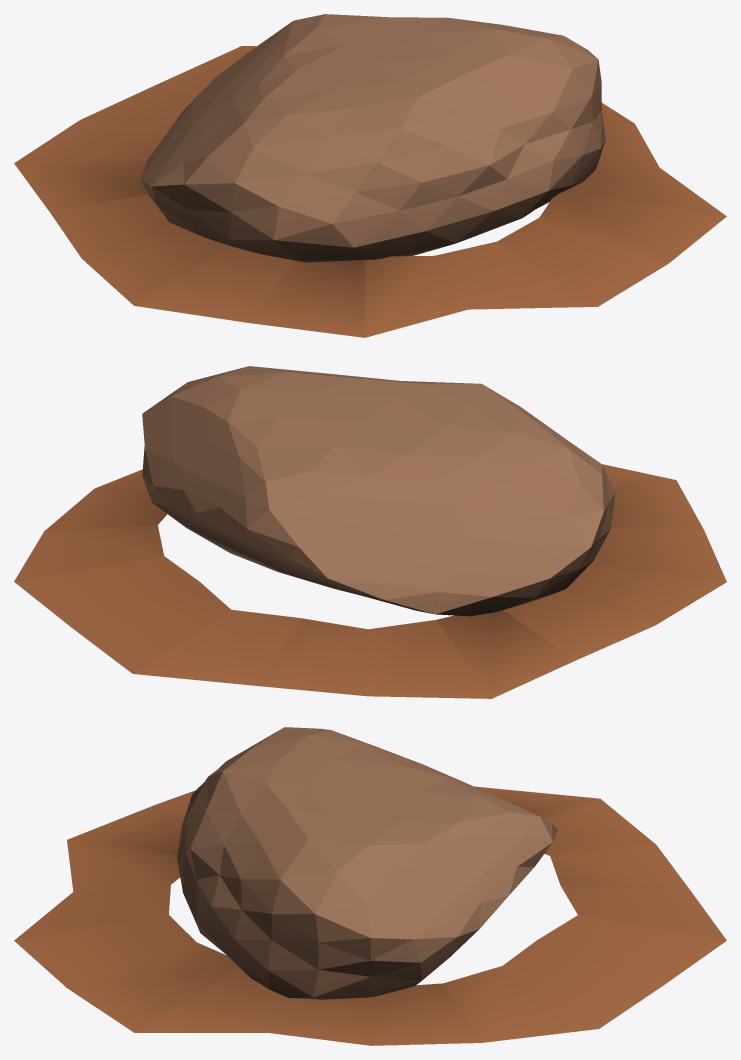
File: boulder_a.glb
3 renders of one model, top to bottom at view 1: azimuth 30°, elevation 25°; view 2: azimuth 150°, elevation 25°; view 3: azimuth 270°, elevation 25°, orthographic.
Visible parts, largest first — view 1: Rock; view 2: Rock; view 3: Rock.
Part boxes in pixels (x1,y1,x2,y2): Rock: [14, 14, 726, 337]; Rock: [14, 366, 726, 698]; Rock: [14, 727, 726, 1045].
Bounding box in the file's own units: 2.86 × 0.6866 × 3.14.
